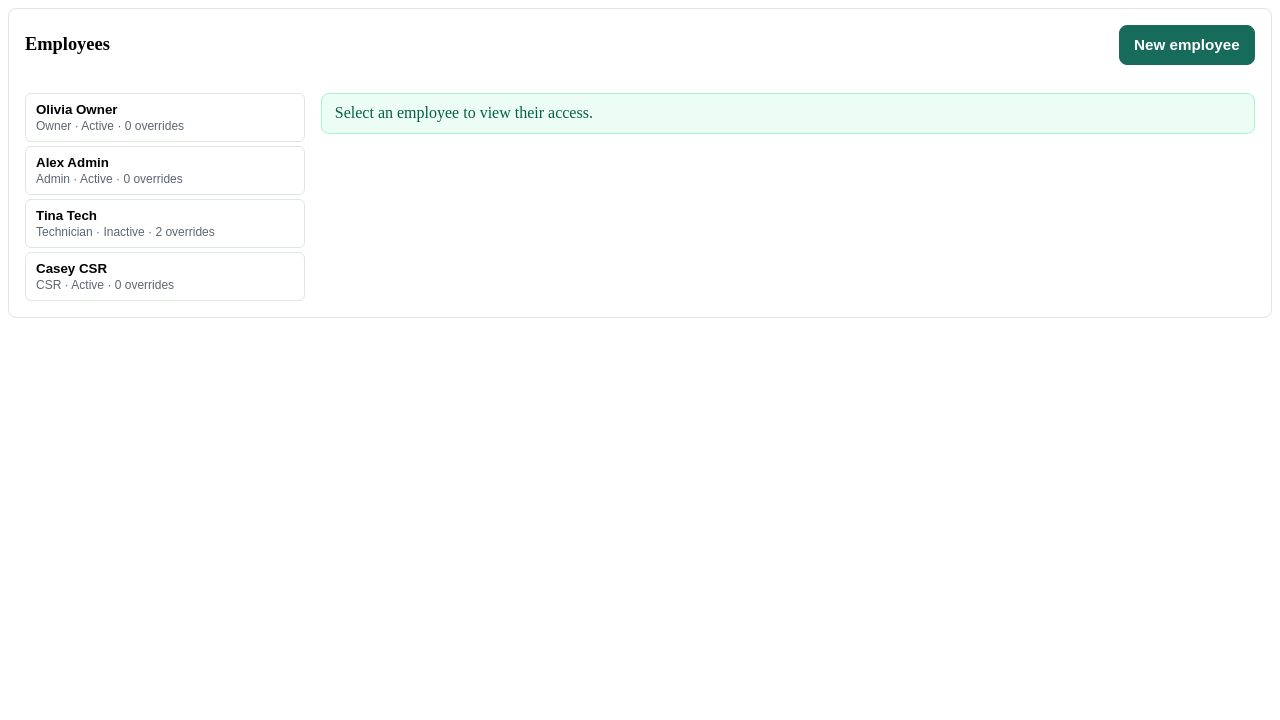
OfficeEmployeeAccessSurface — mutations › creates an employee and surfaces a create error
Click the button "New employee" at (1187, 45), box [1119,25,1255,65]
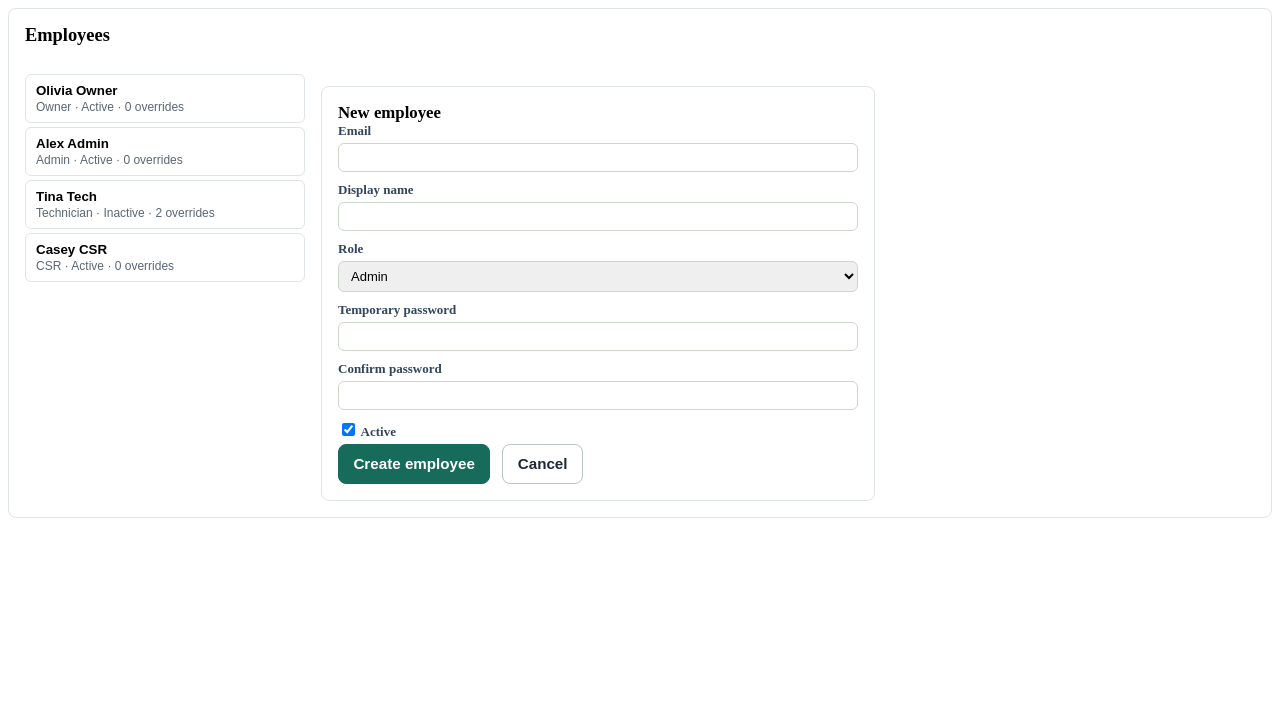
Type "new.person@bellfield.local" into the field labelled "Email" at (598, 158), box [338,143,858,172]
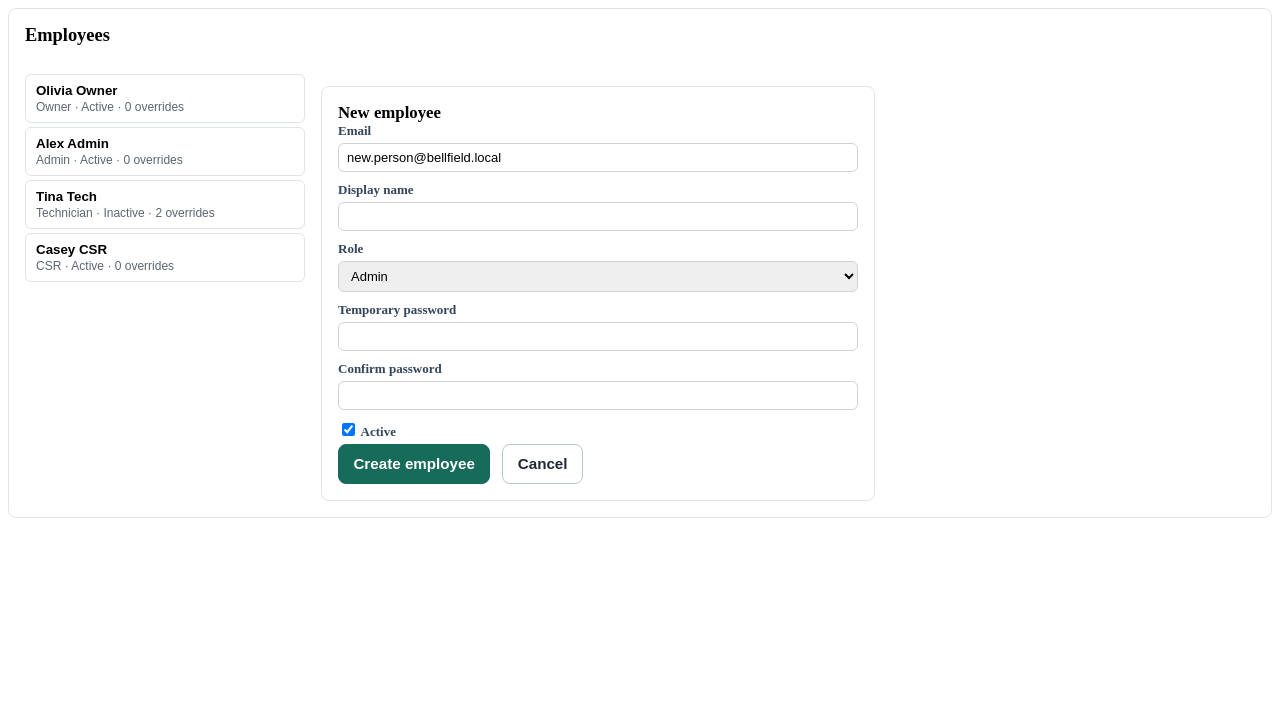
Type "New Person" into the field labelled "Display name" at (598, 216), box [338,202,858,231]
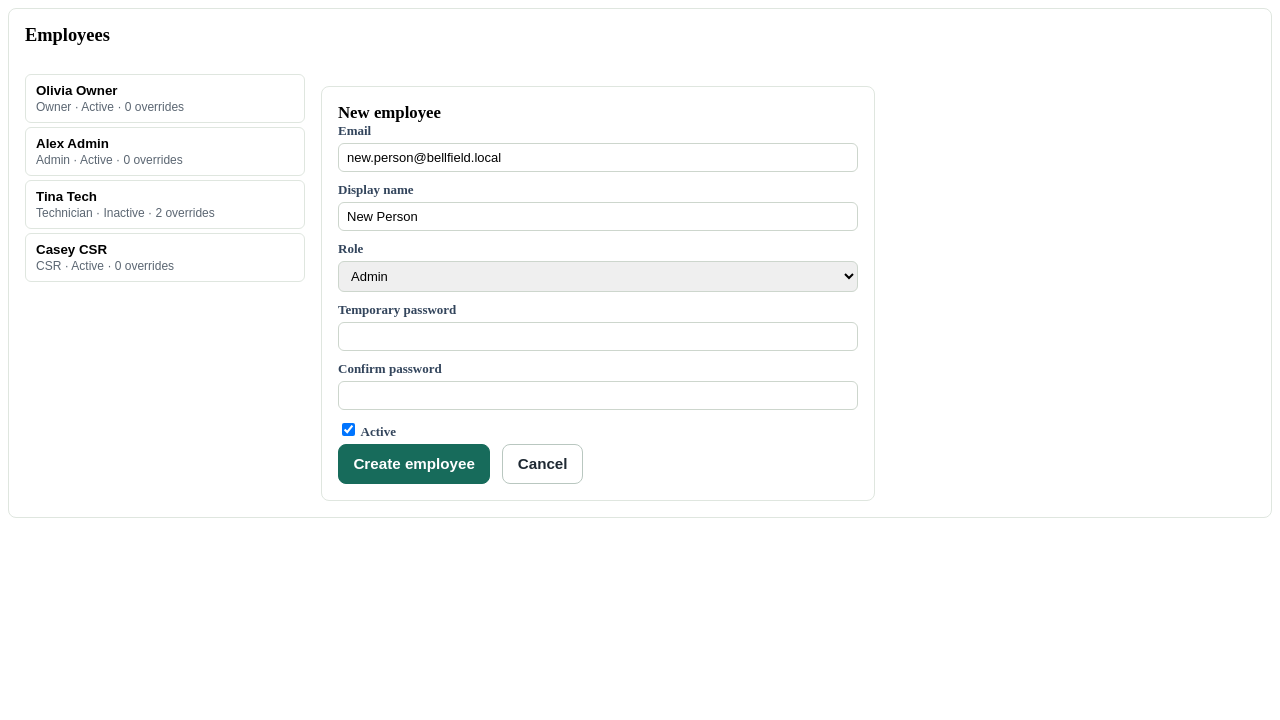
Type "supersecret1" into the password field labelled "Temporary password" at (598, 336), box [338,322,858,351]
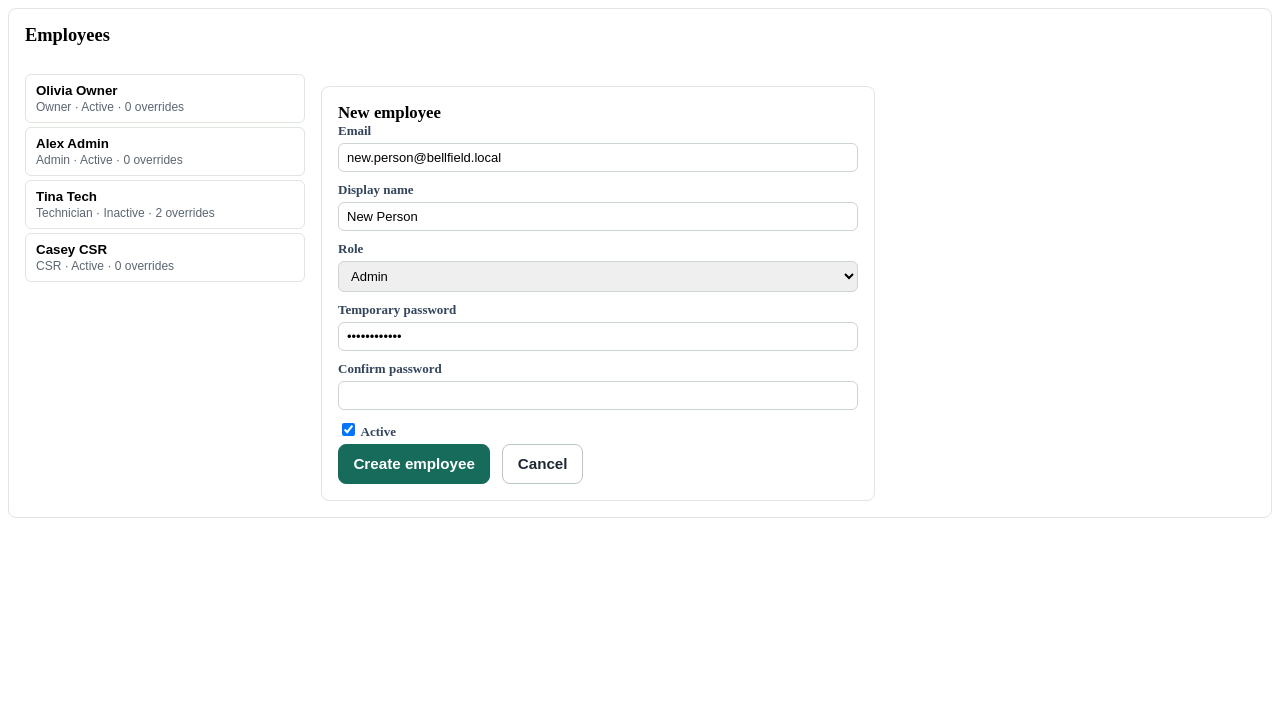
Type "supersecret1" into the password field labelled "Confirm password" at (598, 396), box [338,381,858,410]
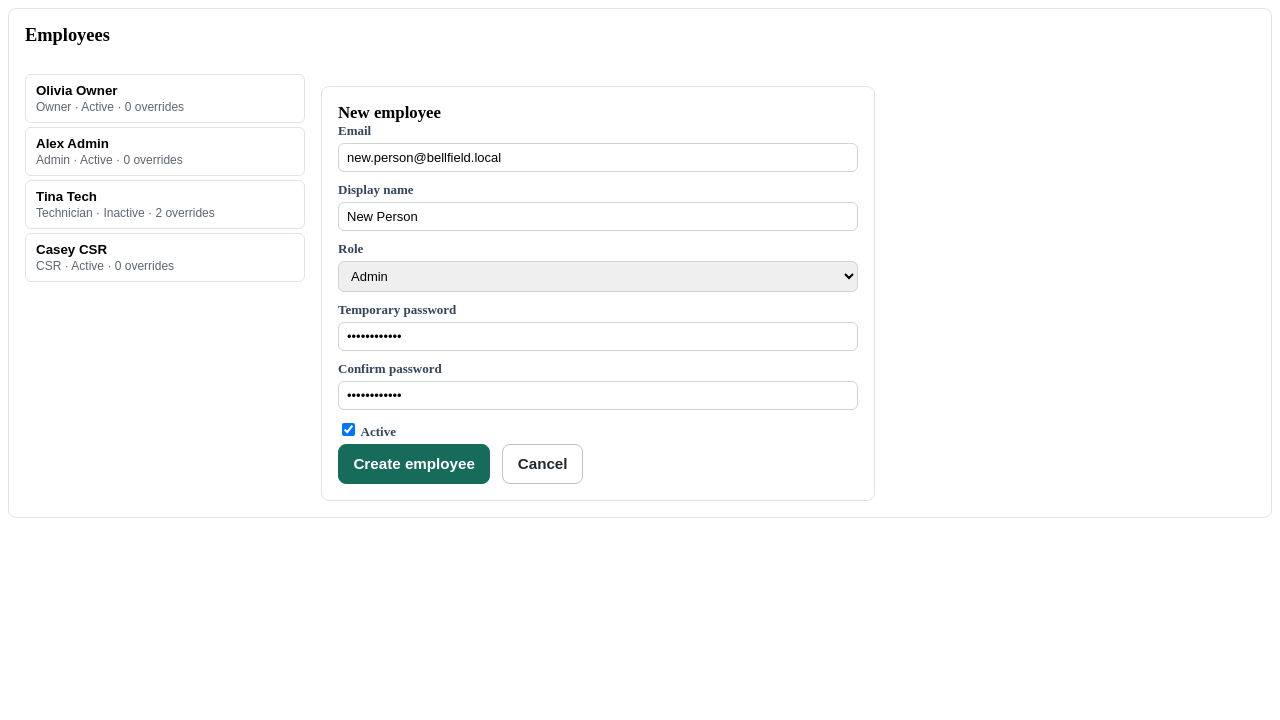
Click the button "Create employee" at (414, 464), box [338,444,490,484]
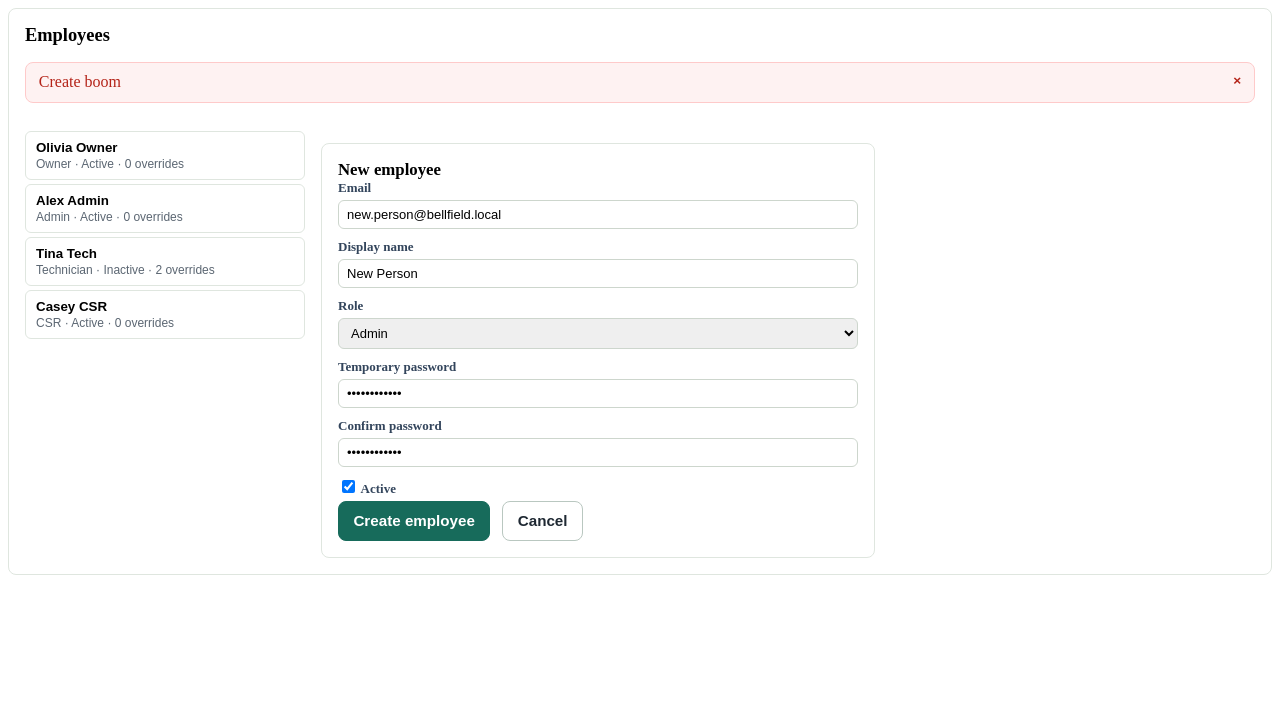
Expected: the text "Create boom" is shown, [39,73,121,91]
